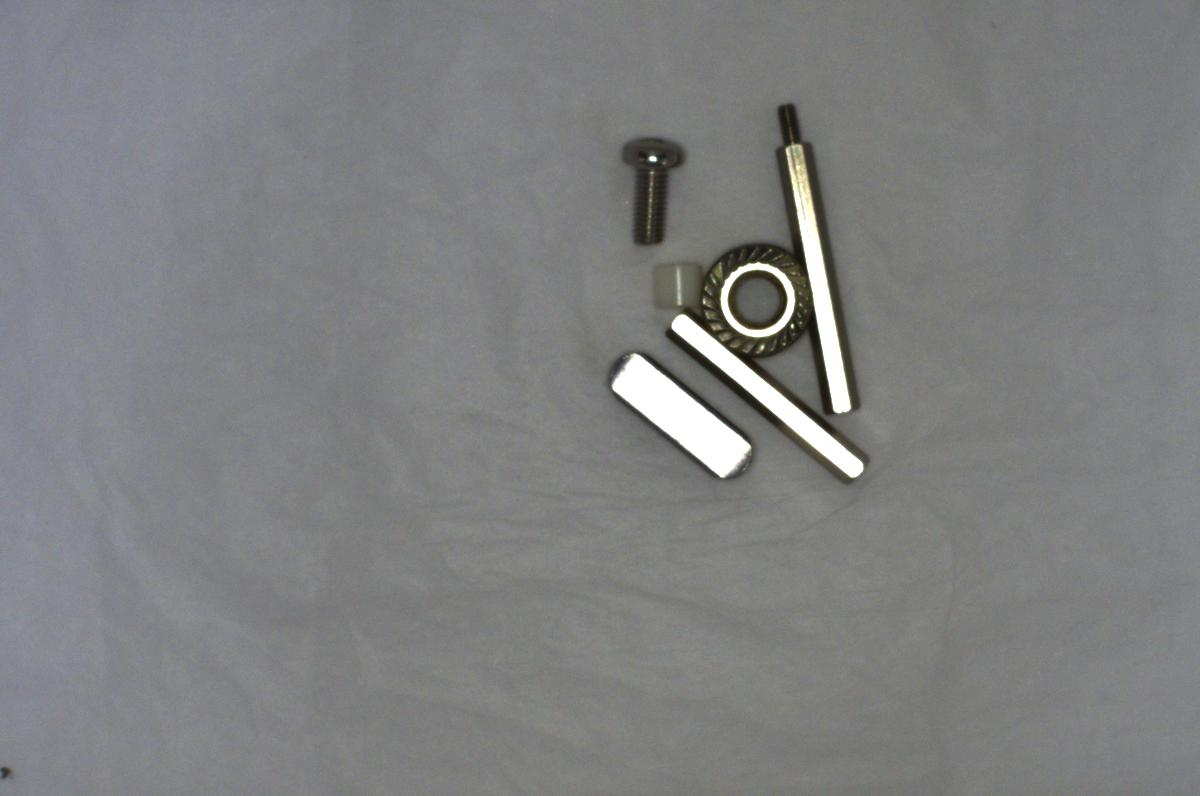Double hexagonal column: (657, 306, 864, 482)
Flange nut: (682, 237, 825, 363)
Hexagonal steel column: (764, 94, 862, 423)
Keybar: (603, 345, 758, 483)
Plastic cushion pillar: (641, 248, 702, 313)
Round head screw: (600, 130, 683, 249)
